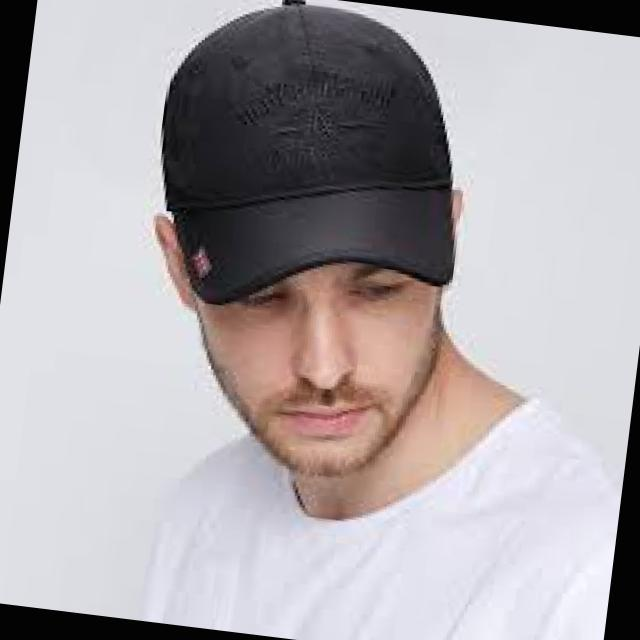cap: (121, 0, 528, 341)
